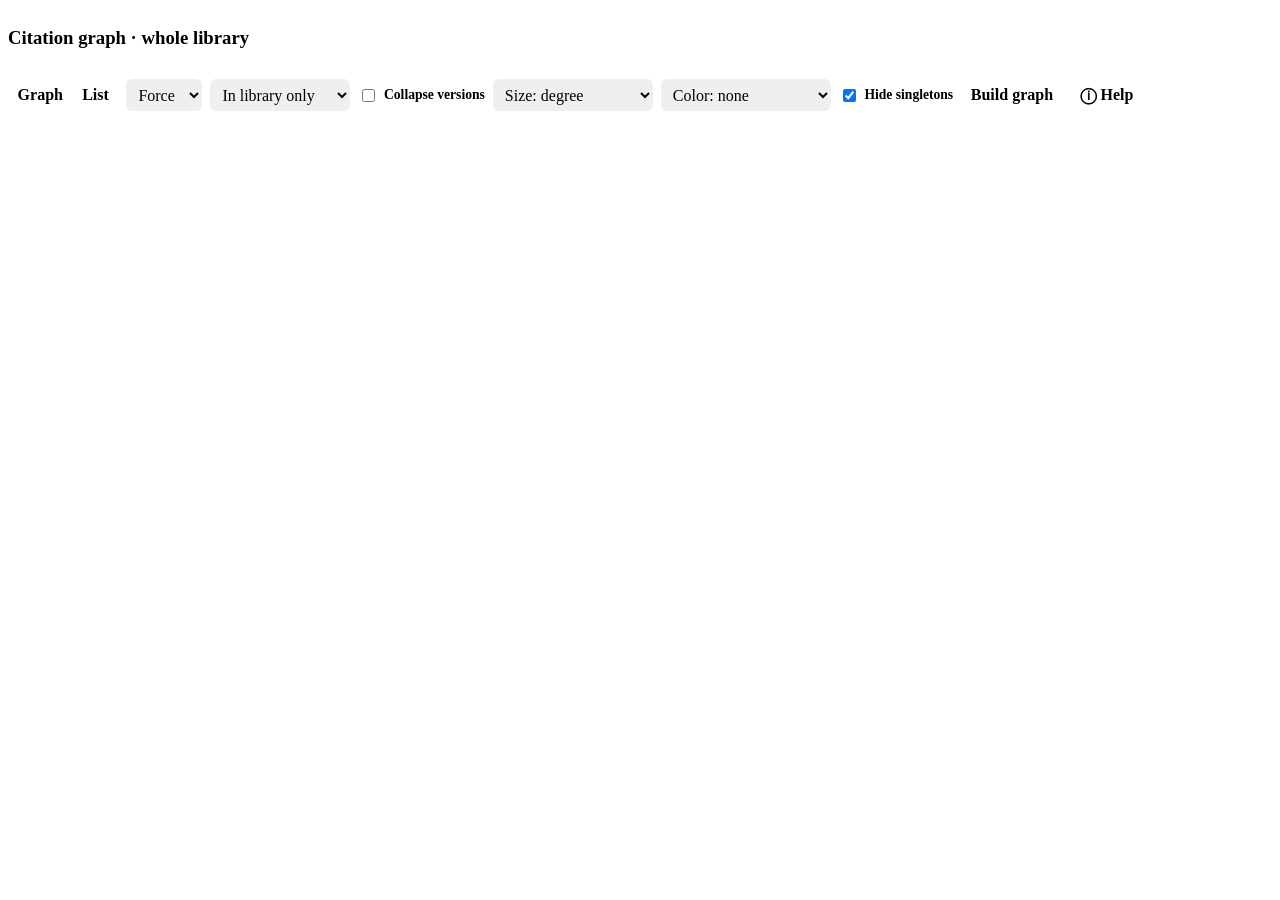
Test: CitationGraph › builds on demand and renders edges with resolved labels in list mode
The width and height of the screenshot is (1280, 900).
Click the button "Build graph": {"x": 1012, "y": 95} [961, 79, 1063, 111]
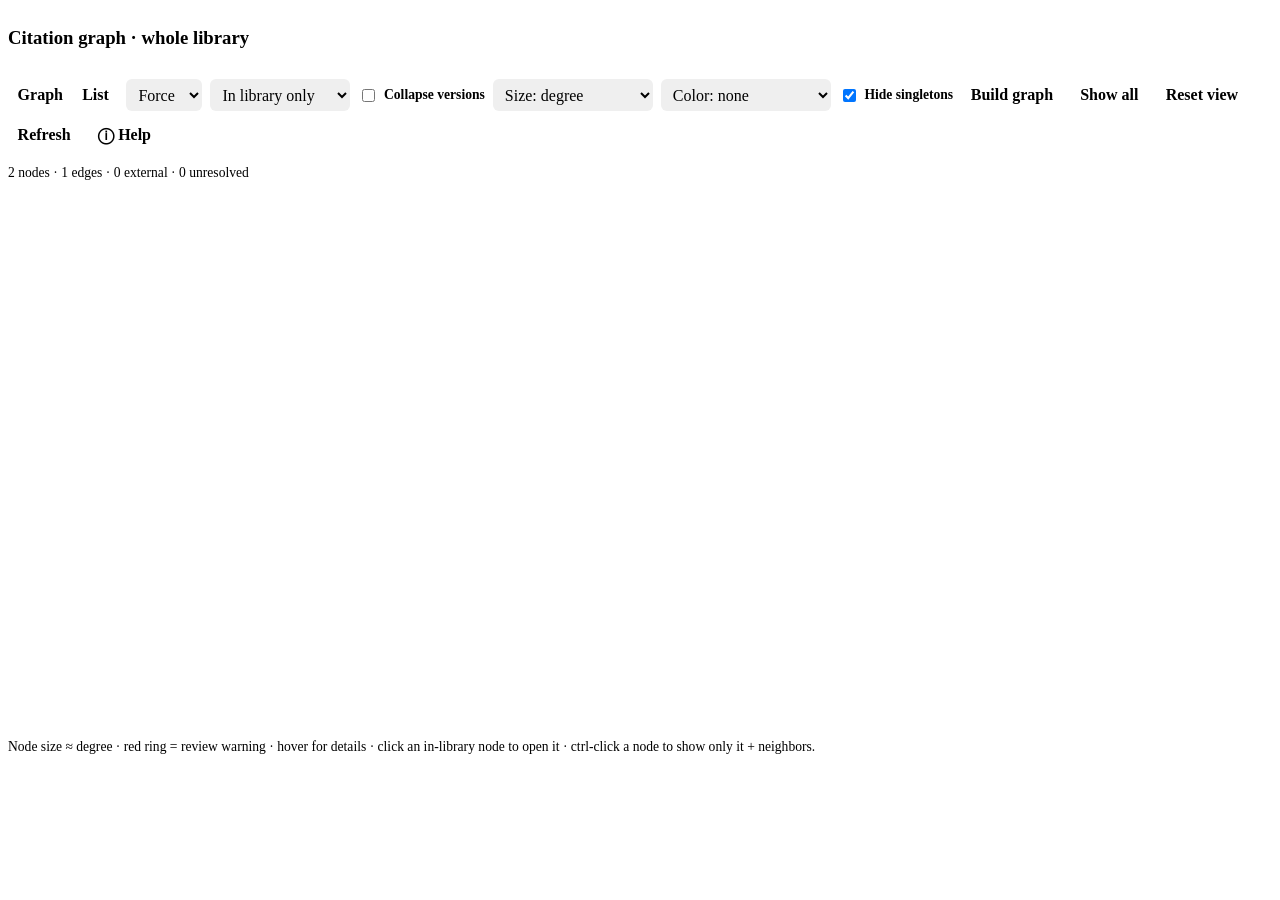
Now the text "2 nodes · 1 edges · 0 external · 0 unresolved" is shown, box [8, 165, 249, 180]
Click the button "List": {"x": 95, "y": 95} [72, 79, 118, 111]
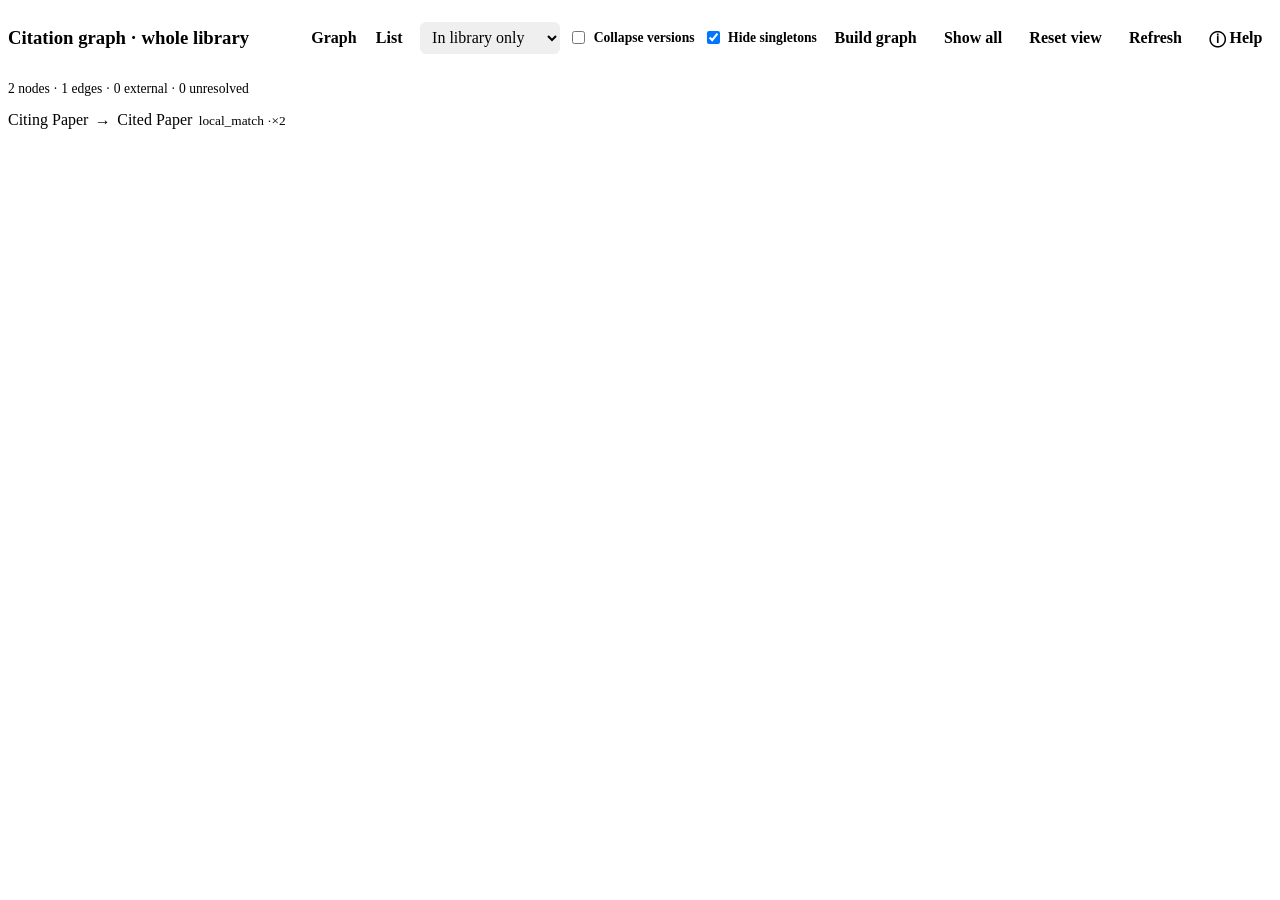
Now the text "Citing Paper" is shown, box [8, 111, 88, 129]
Now the text "Cited Paper" is shown, box [117, 111, 192, 129]
